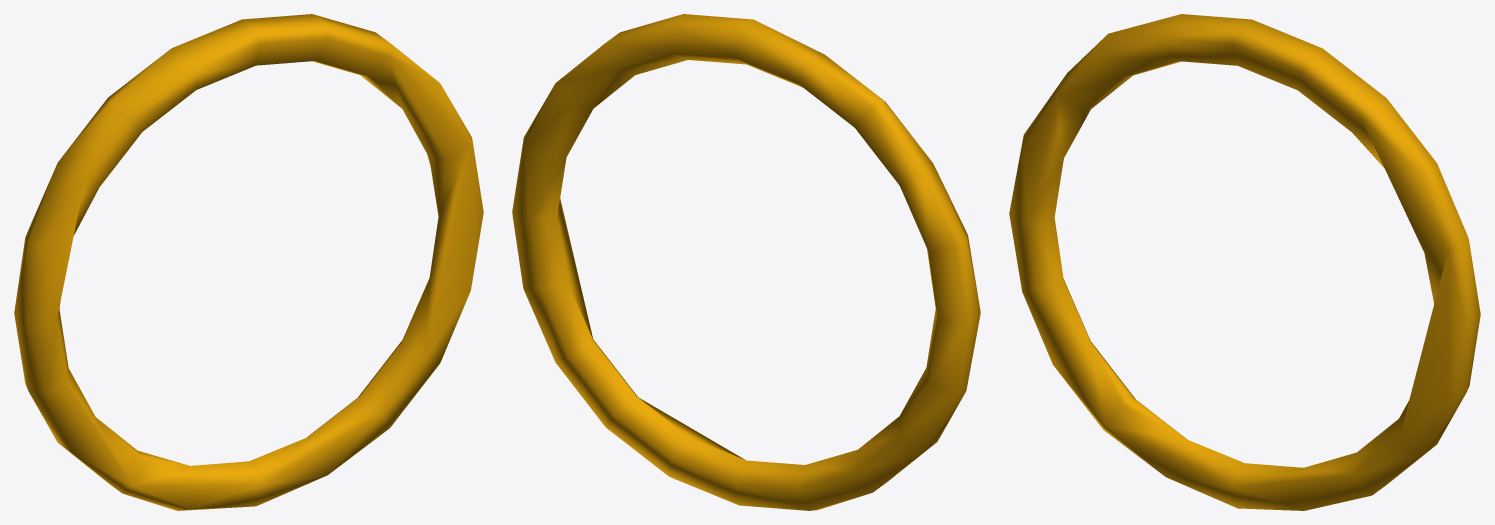
Rendered from ringYellow.fbx.
The picture shows the model from 3 angles, left to right: view 1: azimuth 30°, elevation 25°; view 2: azimuth 150°, elevation 25°; view 3: azimuth 330°, elevation 25°; orthographic projection.
Visible parts, largest first — view 1: pTorus1; view 2: pTorus1; view 3: pTorus1.
Boxes of the visible parts, <box> form: pTorus1: <box>14,14,483,510</box>; pTorus1: <box>512,14,980,510</box>; pTorus1: <box>1009,14,1480,510</box>.
Size of the model in its own units: 1.94 by 1.94 by 0.1711.
